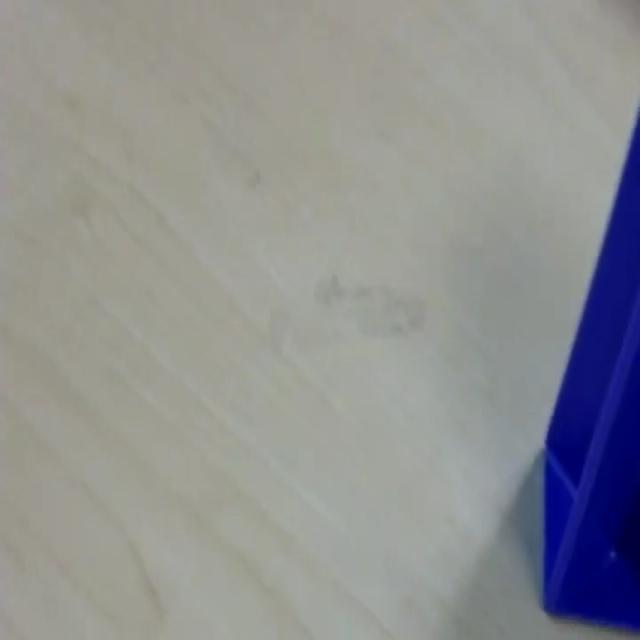blue_block: (540, 101, 639, 628)
